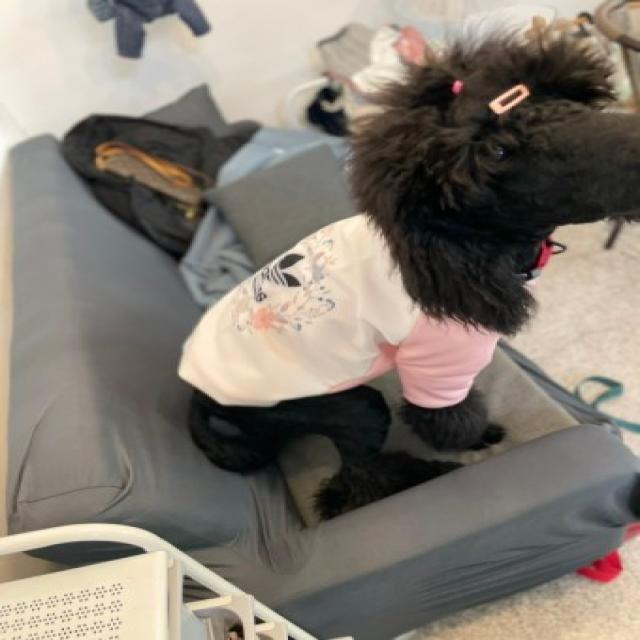cloth: (180, 215, 501, 408)
